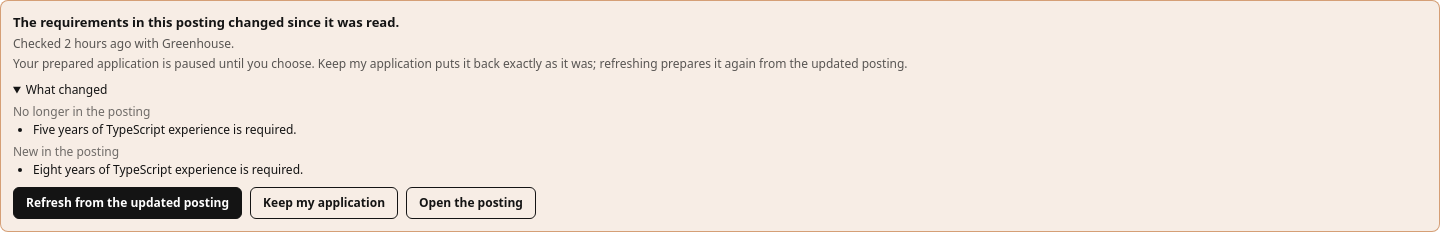
Scenario: PostingVerificationNotice › a held package says it is paused and that Keep puts it back exactly as it was
Expected: the text "Your prepared application is paused until you choose. Keep my application puts it back exactly as it was" is shown, [13, 54, 908, 72]
Click the button "Keep my application". click: coordinates (324, 202)
box: [250, 186, 398, 218]
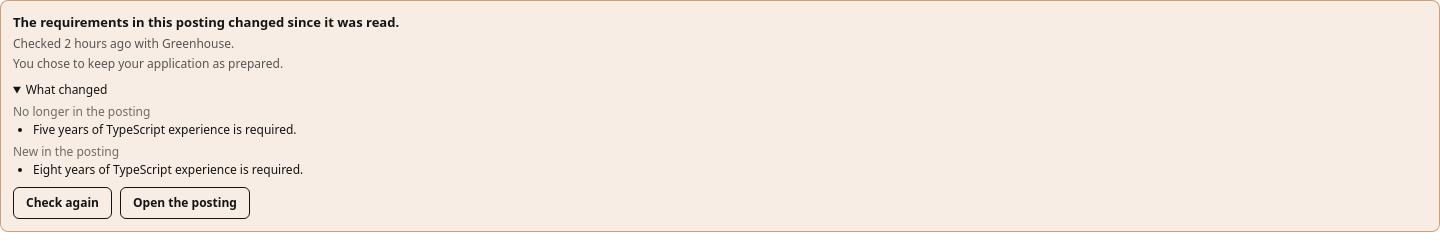
Expected: the text "You chose to keep your application as prepared." is shown, [13, 54, 283, 72]
